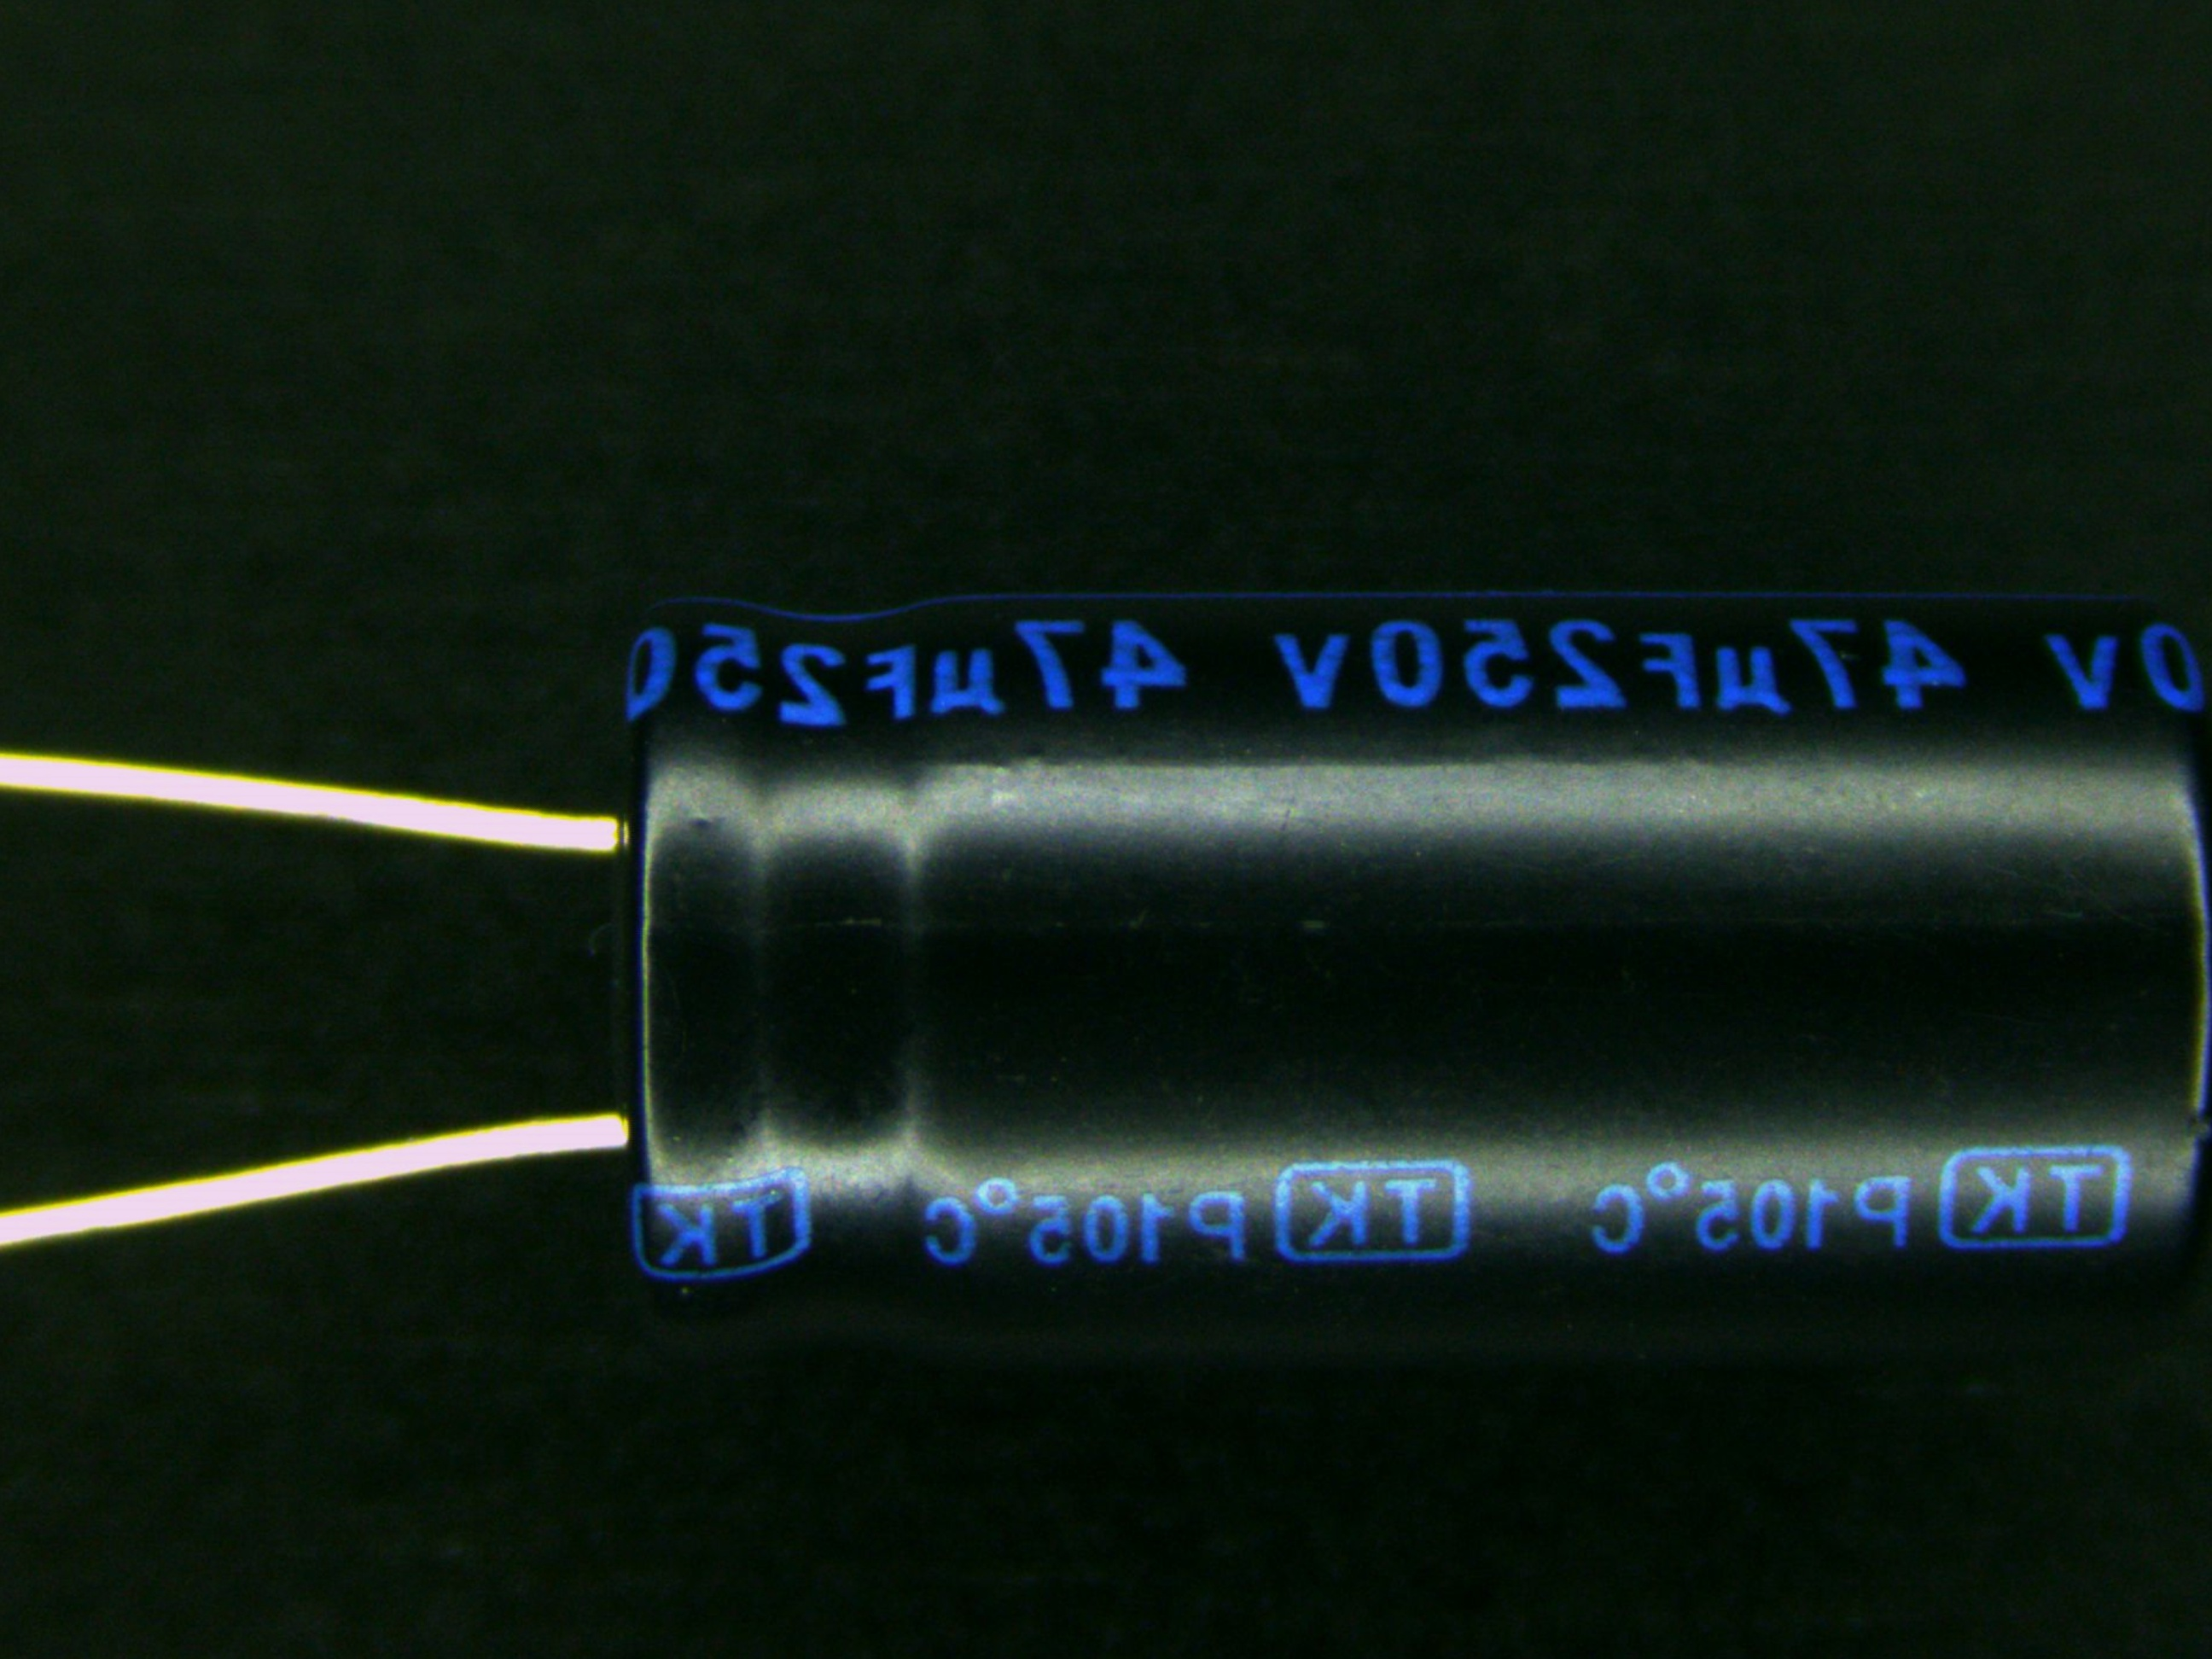c2: (383, 587, 2212, 1352)
